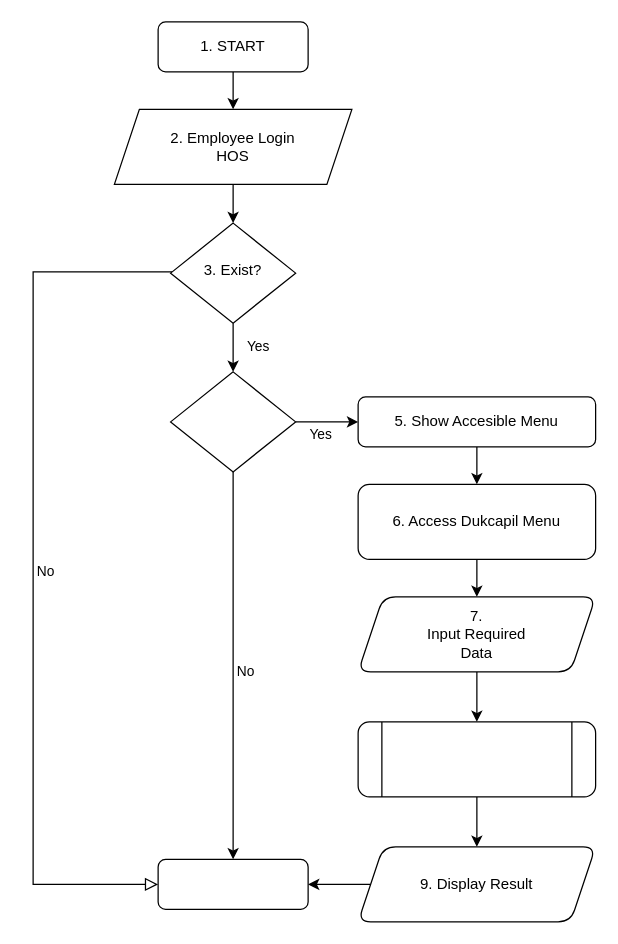
Some shapes in this 618 by 944 pixel diagram are drawn without their labels. Each missing label, with the centre of its shape:
10. END: the point at 232,883
4. Approve T&C?: the point at 232,421
8. Access API Web Service Dukcapil: the point at 476,759
